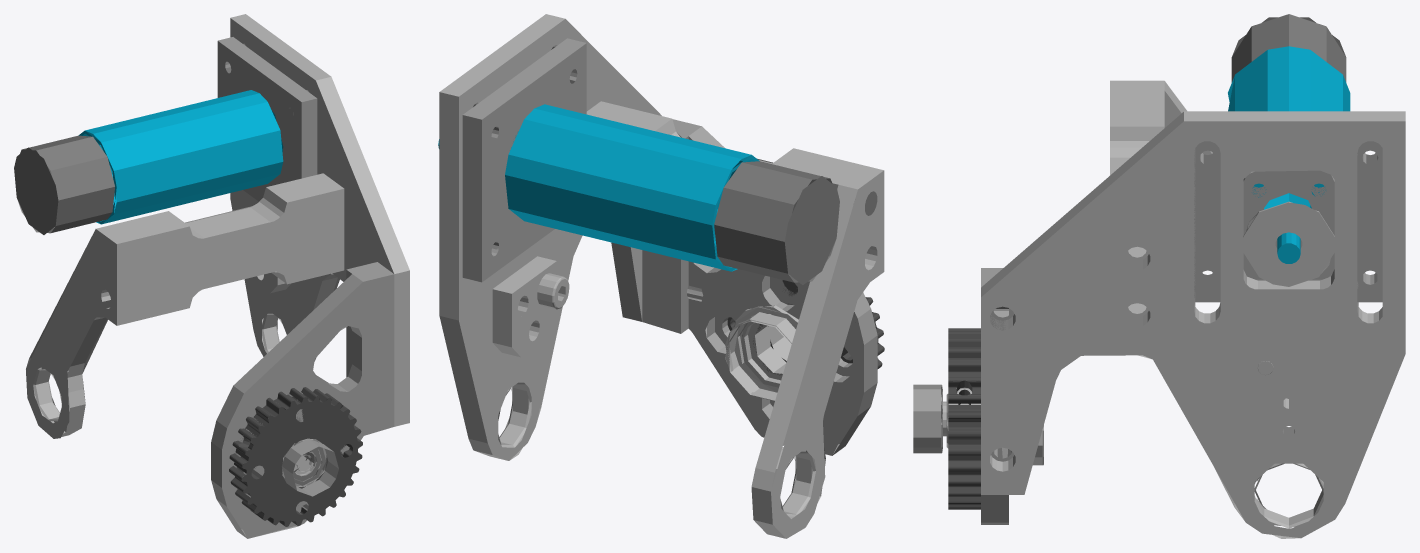
The model's file is EyeR_1_joint_visu.dae.
3 views of the same model, side by side, from view 1: azimuth 30°, elevation 25°; view 2: azimuth 150°, elevation 25°; view 3: azimuth 270°, elevation 25° (orthographic). The views are drawn at different scales.
Visible parts, largest first — view 1: Visualization_EyeR1; view 2: Visualization_EyeR1; view 3: Visualization_EyeR1.
Part boxes in pixels (x1,y1,x2,y2): Visualization_EyeR1: (14, 14, 409, 538); Visualization_EyeR1: (438, 14, 884, 538); Visualization_EyeR1: (913, 14, 1405, 538).
Bounding box in the file's own units: 0.0569 × 0.0633 × 0.067.
